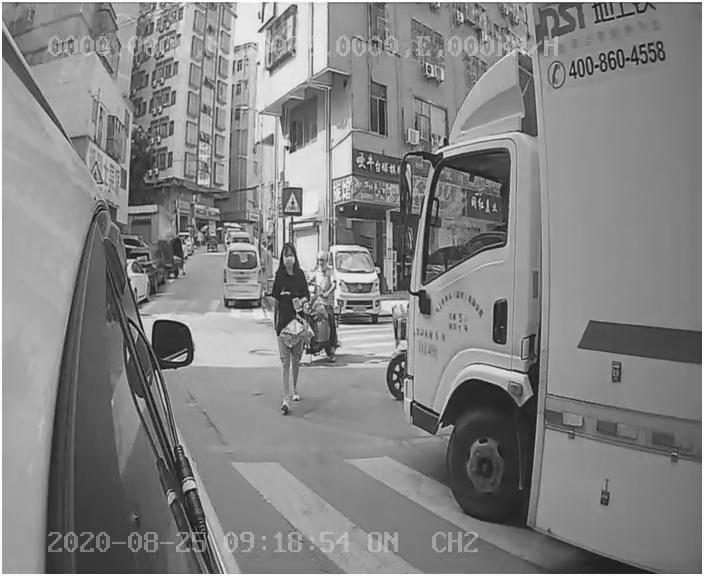person: (261, 241, 311, 416)
